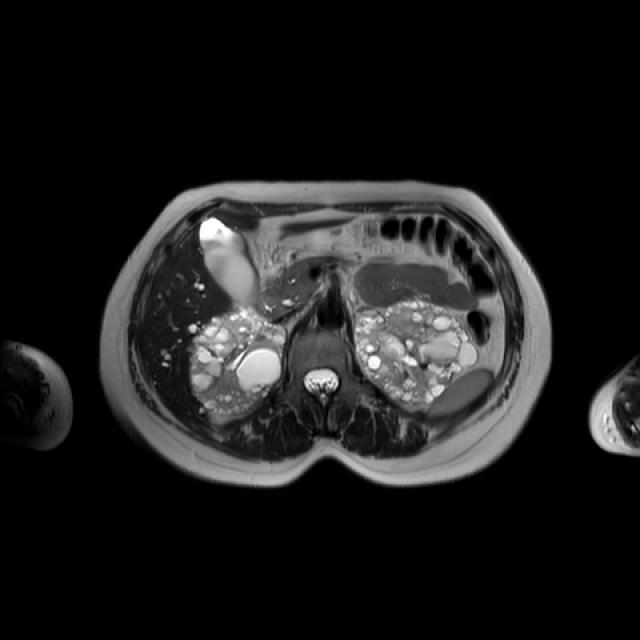sag: (189, 306, 287, 414)
sol: (353, 300, 478, 408)
